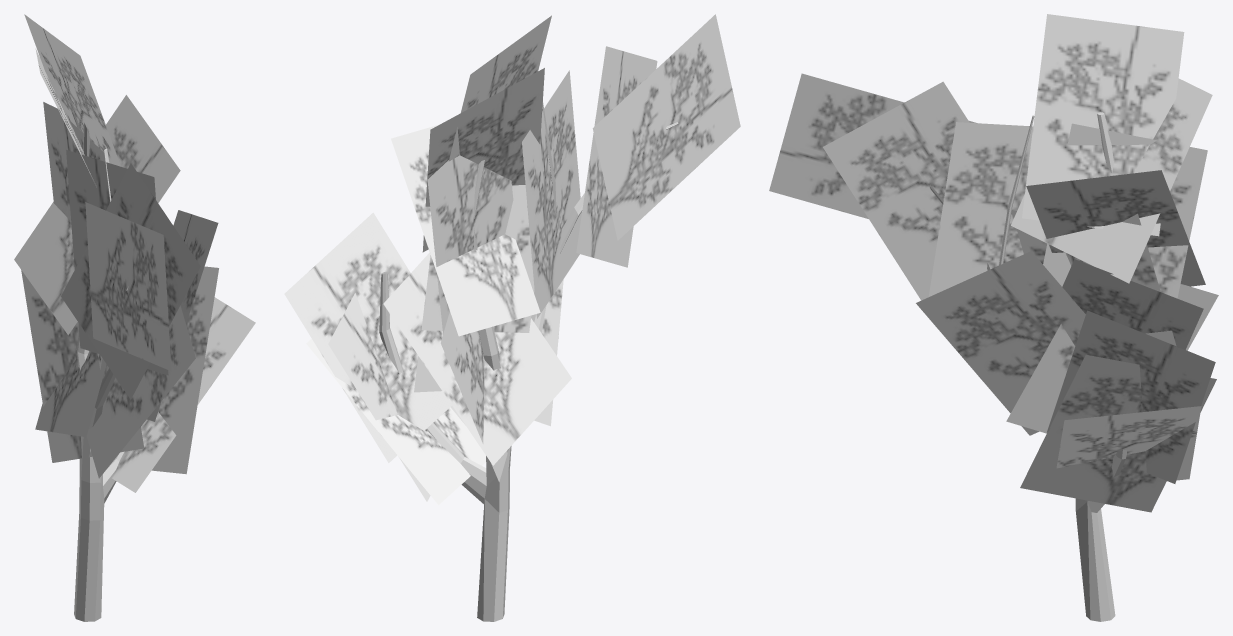
The model's file is ArbolAncho 1.fbx.
The picture shows the model from 3 angles, left to right: view 1: azimuth 30°, elevation 25°; view 2: azimuth 150°, elevation 25°; view 3: azimuth 270°, elevation 25°; orthographic projection.
Visible parts, largest first — view 1: Plane, Tallo; view 2: Plane, Tallo; view 3: Plane, Tallo.
Boxes of the visible parts, <box> form: Plane: <box>14,14,255,492</box>; Tallo: <box>74,123,128,621</box>; Plane: <box>284,14,740,505</box>; Tallo: <box>379,102,678,621</box>; Plane: <box>769,14,1218,512</box>; Tallo: <box>929,112,1126,621</box>.
Size of the model in its own units: 1.93 by 4.66 by 3.24.
1 material, 1 textured.
